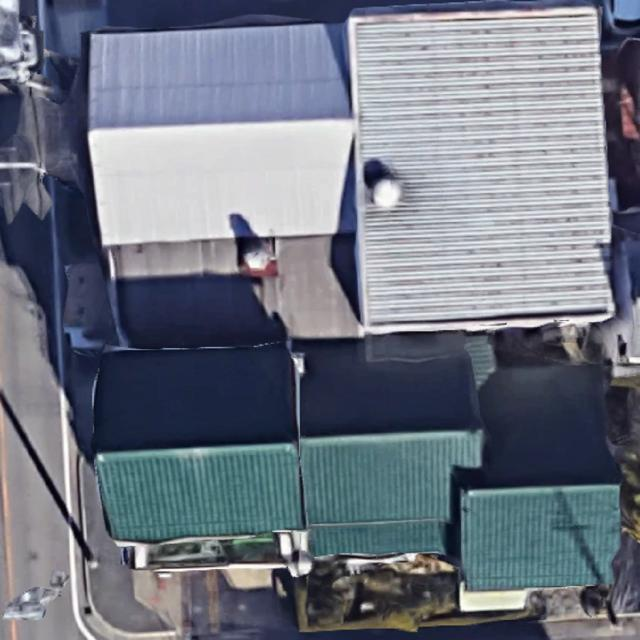Batiment: (93, 339, 482, 555), (350, 8, 612, 325), (89, 24, 353, 246), (456, 365, 620, 590)
